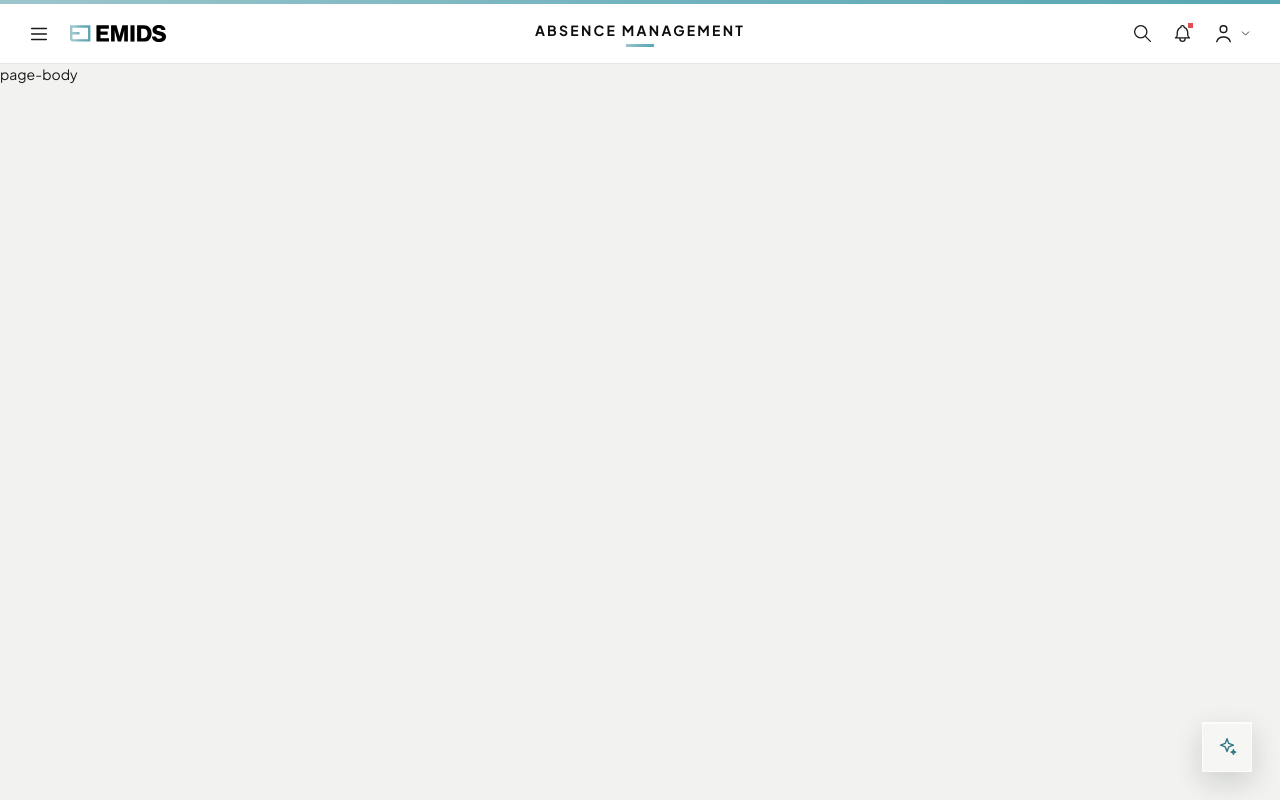
Test case: components/Layout › opens the profile dialog from the header avatar control
Click the button titled "My profile" at (1232, 34), box top-left (1203, 14), bottom-right (1260, 52)
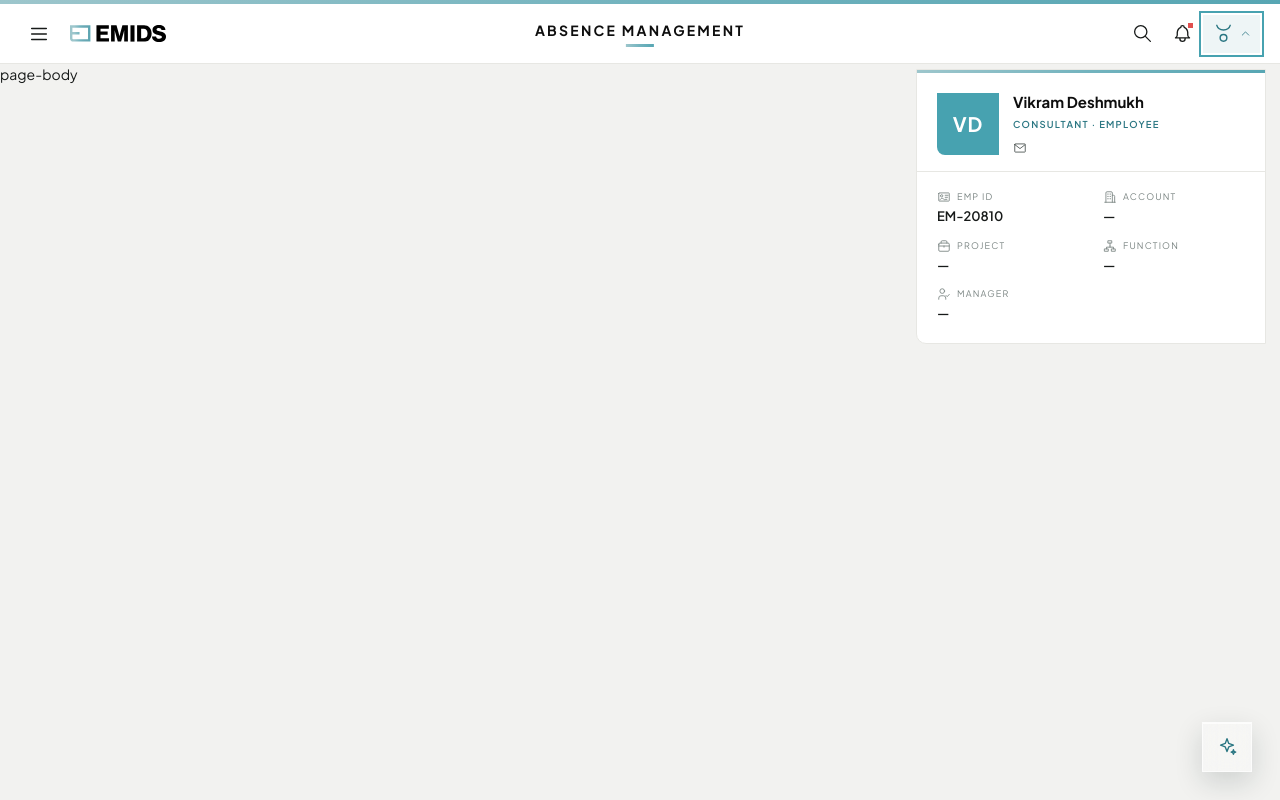
Now the dialog named "My profile" is shown, box top-left (916, 69), bottom-right (1266, 344)
